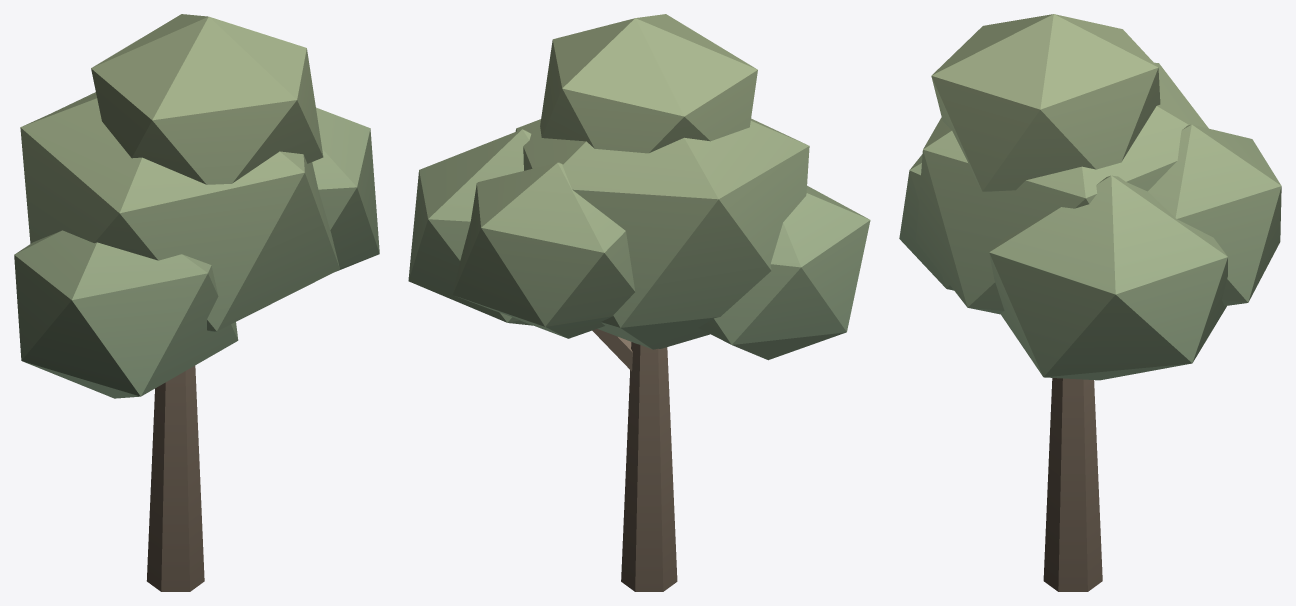
File: iv_tree_round.glb
The picture shows the model from 3 angles, left to right: view 1: azimuth 30°, elevation 25°; view 2: azimuth 150°, elevation 25°; view 3: azimuth 270°, elevation 25°; orthographic projection. The views are drawn at different scales.
Parts seen in each view (by area): view 1: iv_tree_round; view 2: iv_tree_round; view 3: iv_tree_round.
Part boxes in pixels (x1,y1,x2,y2): iv_tree_round: [14, 14, 379, 591]; iv_tree_round: [408, 14, 870, 591]; iv_tree_round: [899, 14, 1281, 591].
Bounding box in the file's own units: 5.04 × 6.91 × 4.13.
